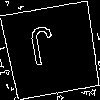J: (26, 25, 60, 76)
